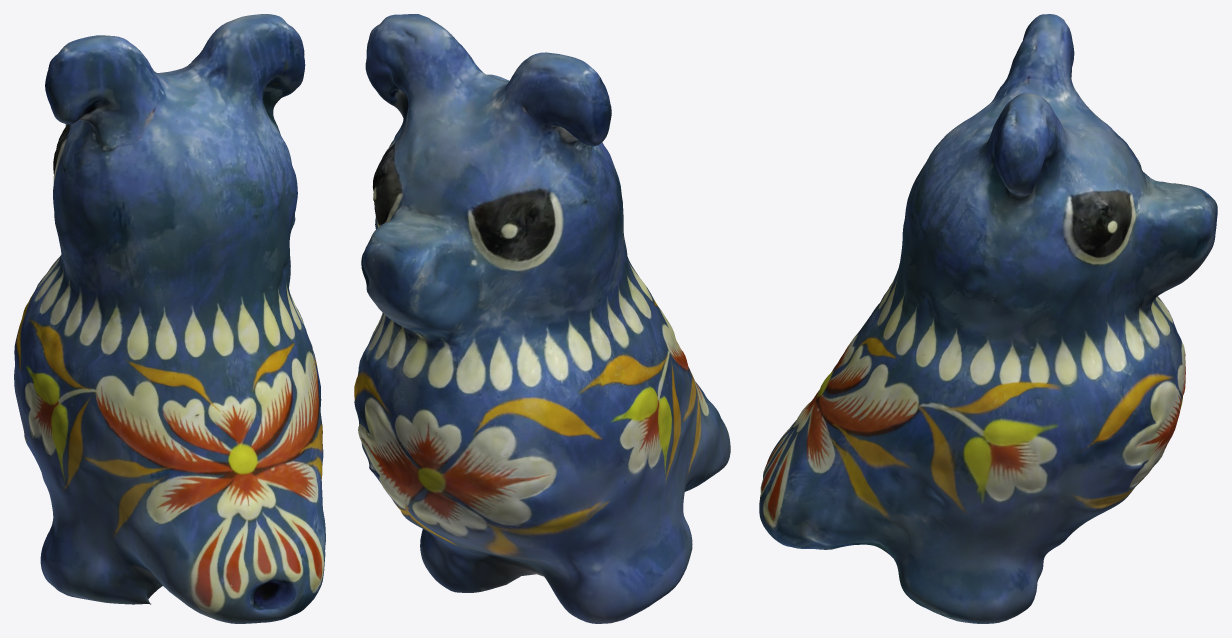
3 views of the same model, side by side, from view 1: azimuth 30°, elevation 25°; view 2: azimuth 150°, elevation 25°; view 3: azimuth 270°, elevation 25° (orthographic). The views are drawn at different scales.
Size of the model in its own units: 0.4165 by 0.807 by 0.6249.
Materials: 1 (1 with a texture image).
